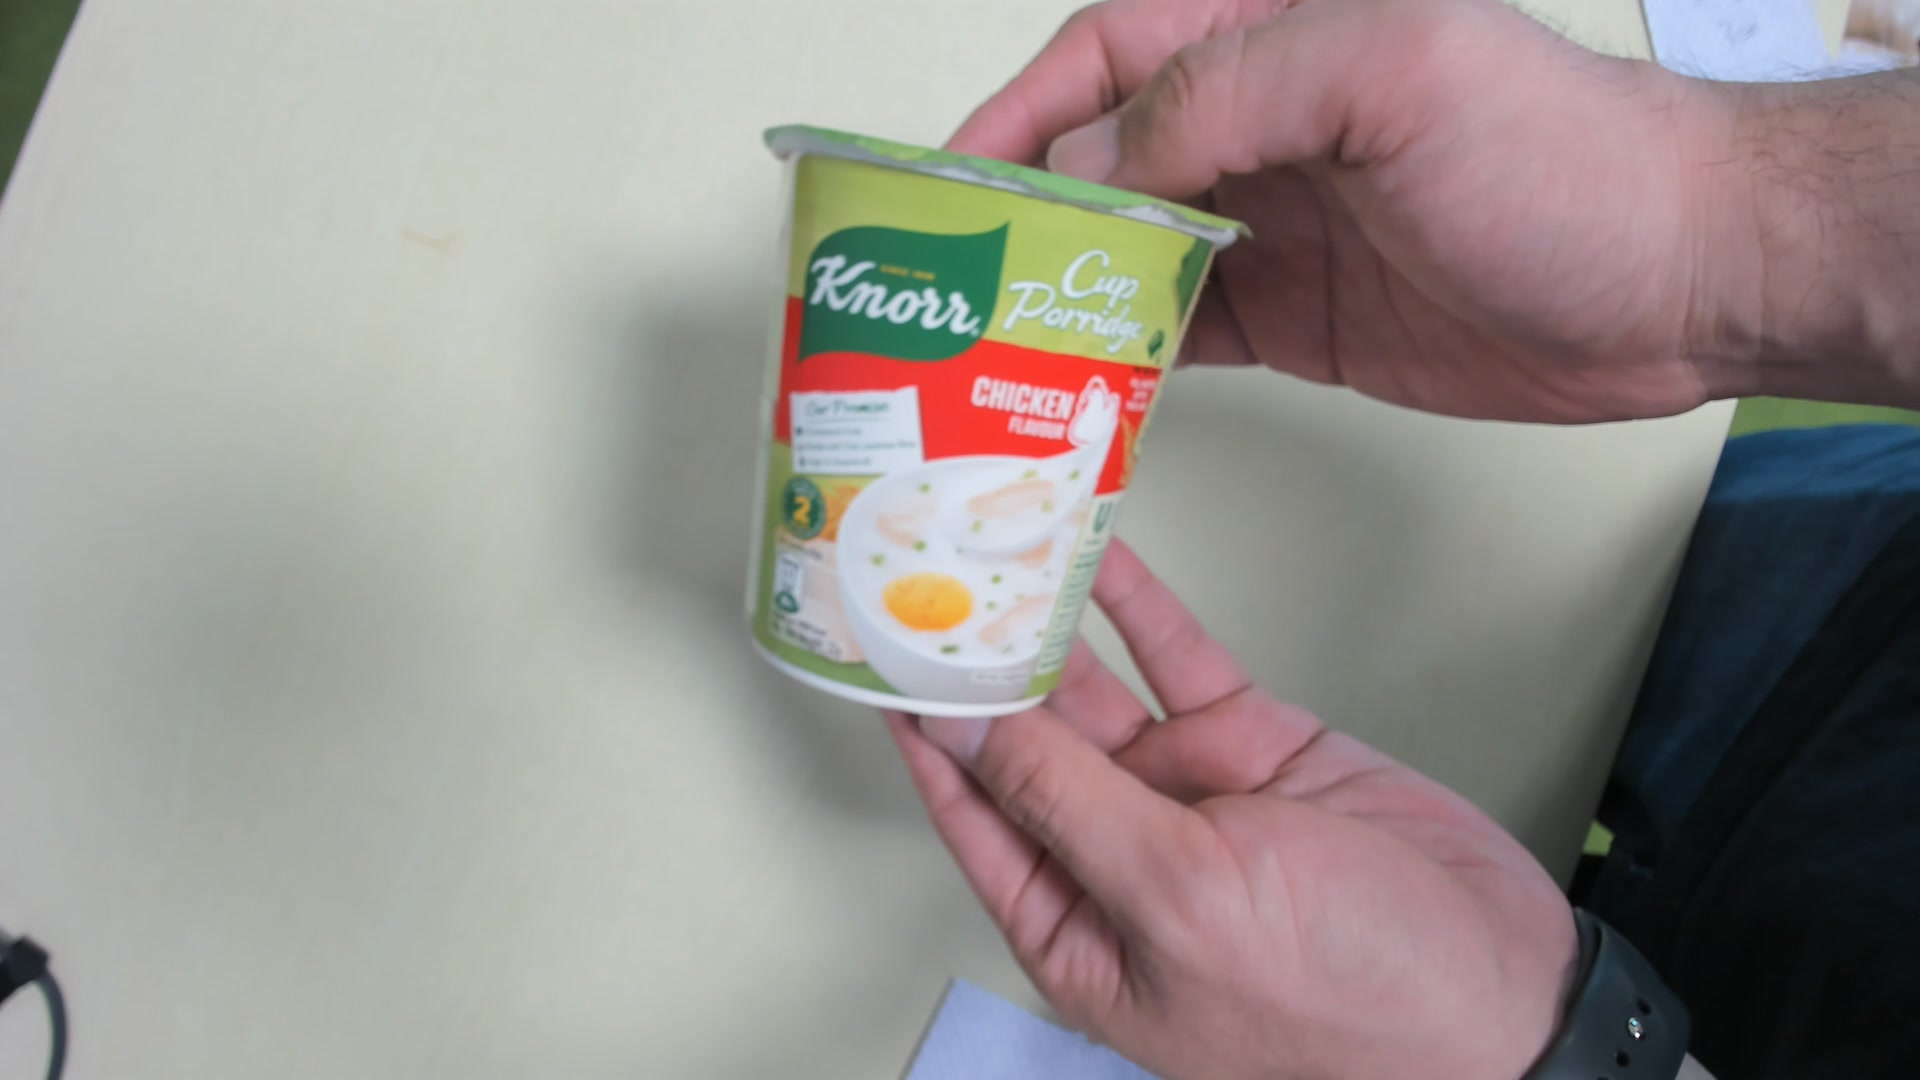InstantMeals_100-199g_Halal_NonHealthy: (746, 107, 1259, 723)
